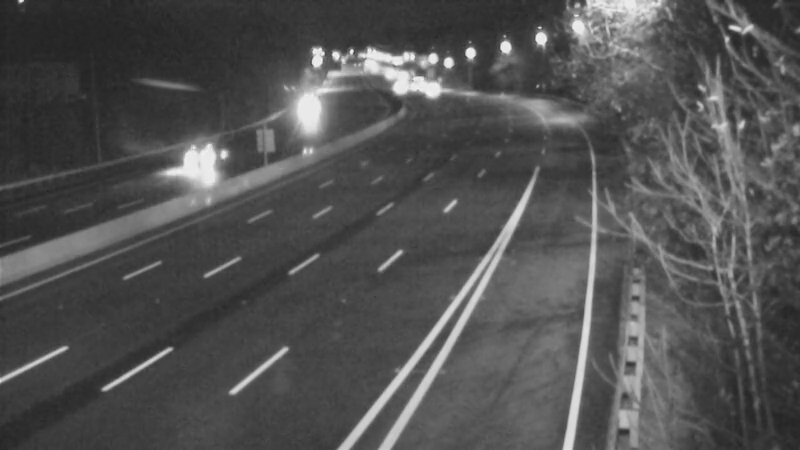vehicle: (155, 119, 235, 199), (371, 61, 421, 111), (403, 68, 453, 118), (285, 85, 335, 135)
